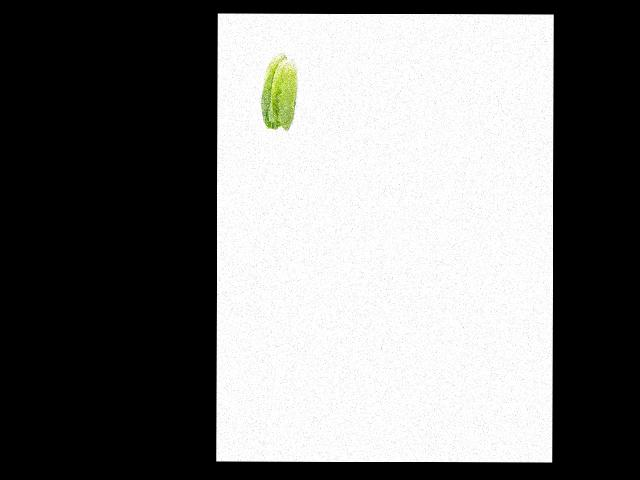lettuce: (261, 53, 302, 131)
